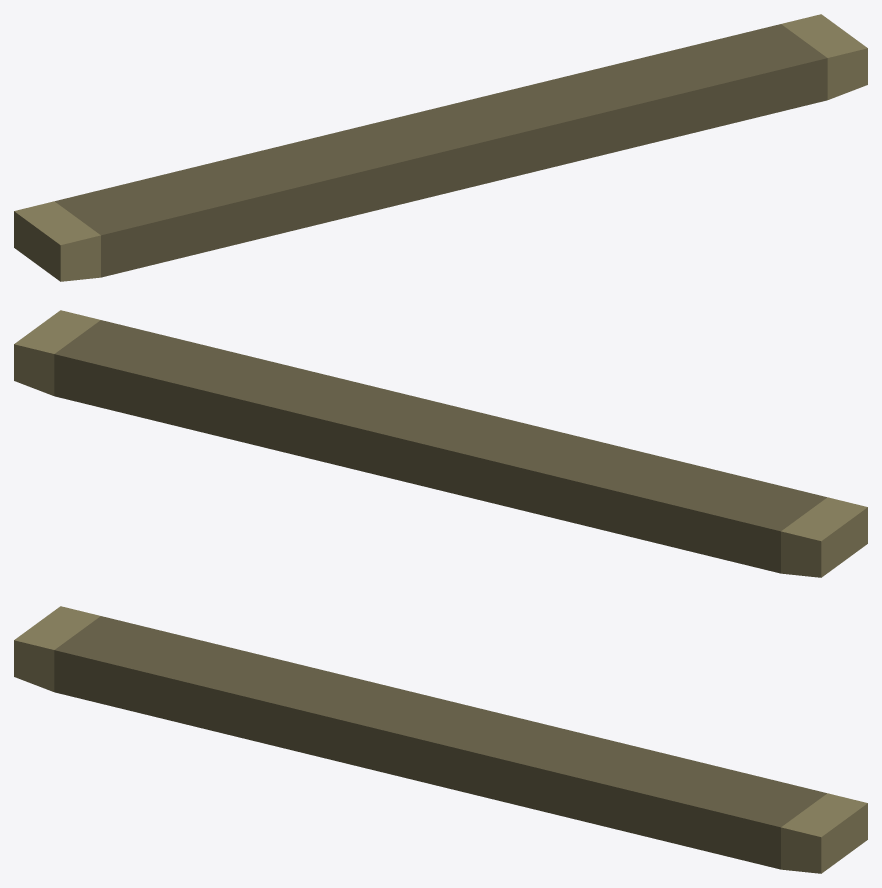
Rendered from SW_PROP_StripLight_02.fbx.
3 views of the same model, one above another, from view 1: azimuth 30°, elevation 25°; view 2: azimuth 150°, elevation 25°; view 3: azimuth 330°, elevation 25° (orthographic).
Visible parts, largest first — view 1: SW_PROP_StripLight_02; view 2: SW_PROP_StripLight_02; view 3: SW_PROP_StripLight_02.
Part boxes in pixels (x1,y1,x2,y2): SW_PROP_StripLight_02: (14,14,867,281); SW_PROP_StripLight_02: (14,310,867,577); SW_PROP_StripLight_02: (14,606,867,873).
Size of the model in its own units: 300 by 15 by 30.
